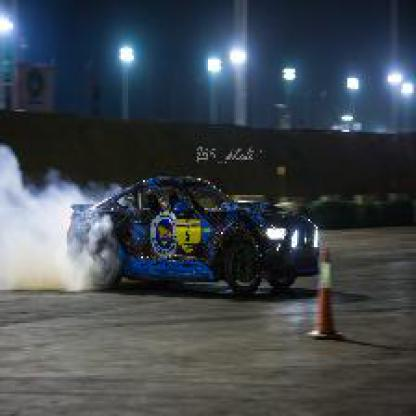not_emergency: (48, 150, 351, 348)
